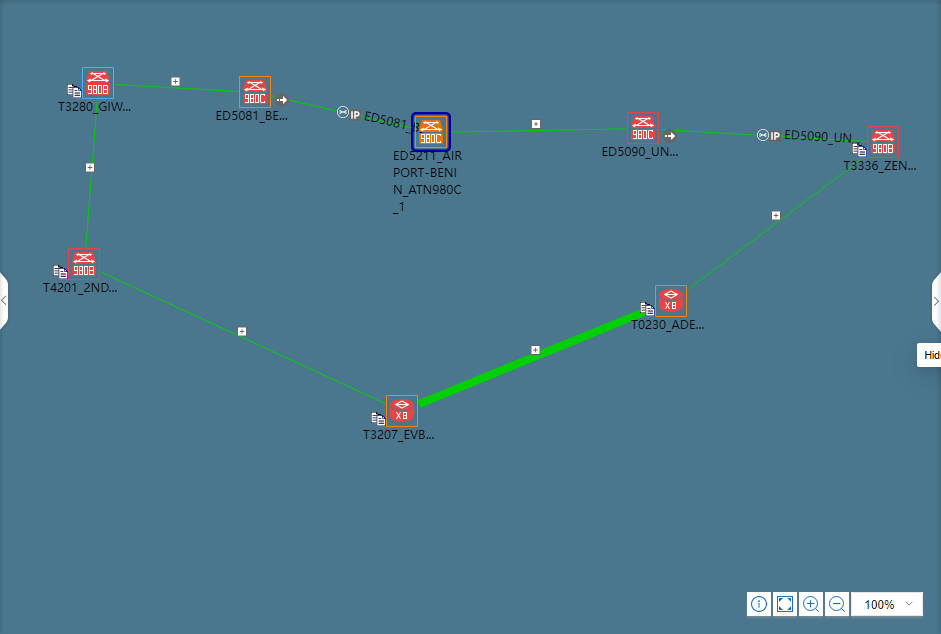ATN_Orange: (416, 117, 445, 148)
ATN_Red: (626, 112, 659, 144), (68, 249, 98, 279), (868, 127, 898, 156), (240, 78, 269, 105), (85, 70, 110, 95)
Link_Green: (101, 270, 385, 405), (688, 158, 868, 290), (417, 309, 647, 408), (272, 95, 410, 129), (661, 128, 866, 142), (84, 100, 98, 247), (115, 84, 238, 93), (452, 128, 625, 133)
Router_Red: (387, 396, 416, 426), (658, 288, 683, 313)
